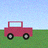vehicle: (4, 22, 32, 40)
